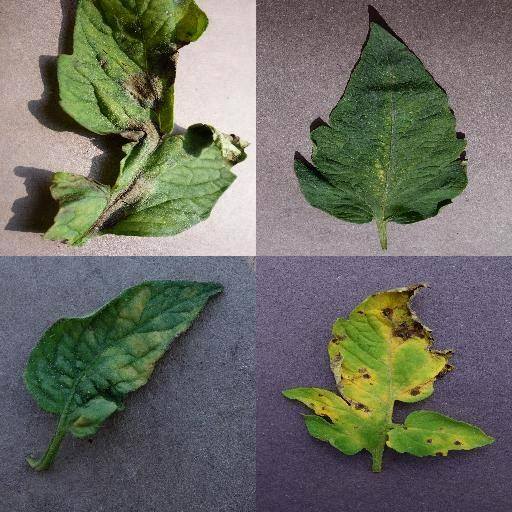Late Blight: (42, 0, 250, 248)
Leaf Mold: (27, 280, 224, 438)
Septoria: (285, 283, 454, 457), (387, 409, 497, 457)
Spider Mites: (294, 22, 470, 224)
